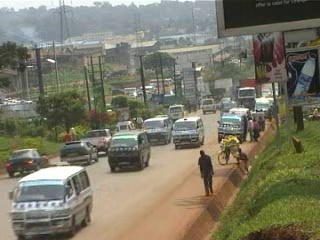Car: (5, 145, 53, 179), (56, 136, 103, 167)
